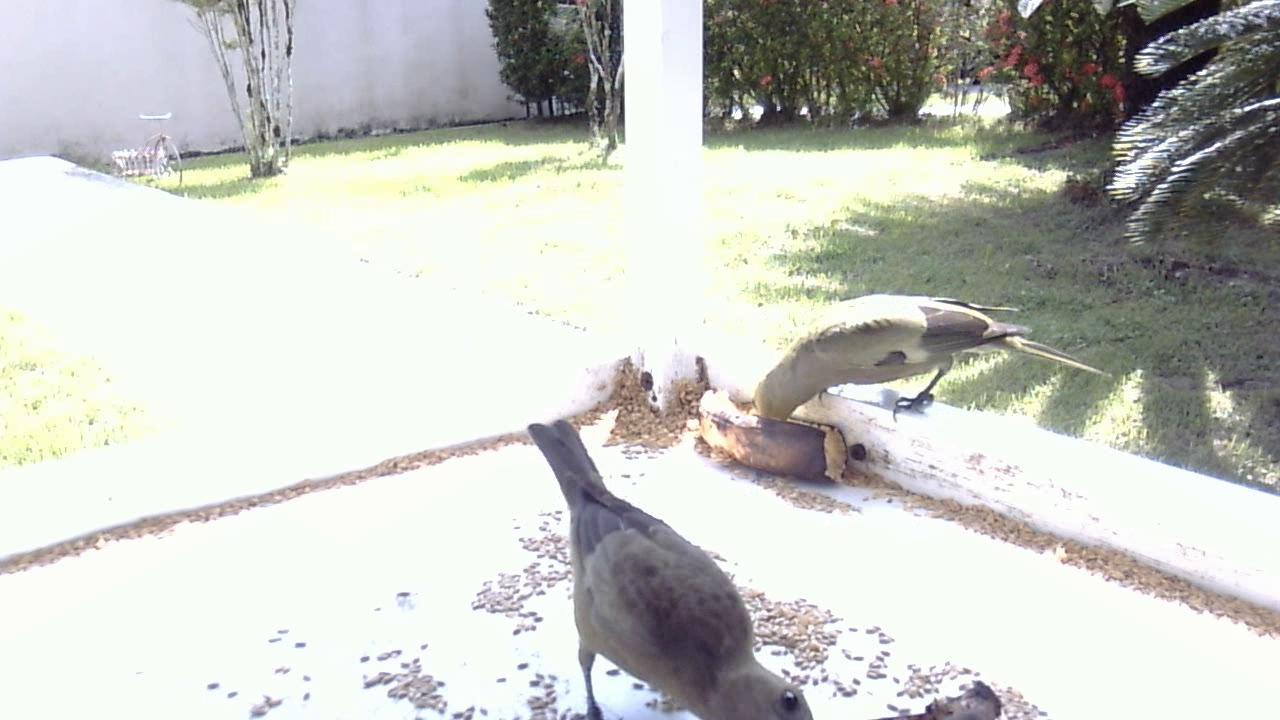sanhaco_do_coqueiro: (512, 403, 833, 720), (748, 285, 1100, 461)
